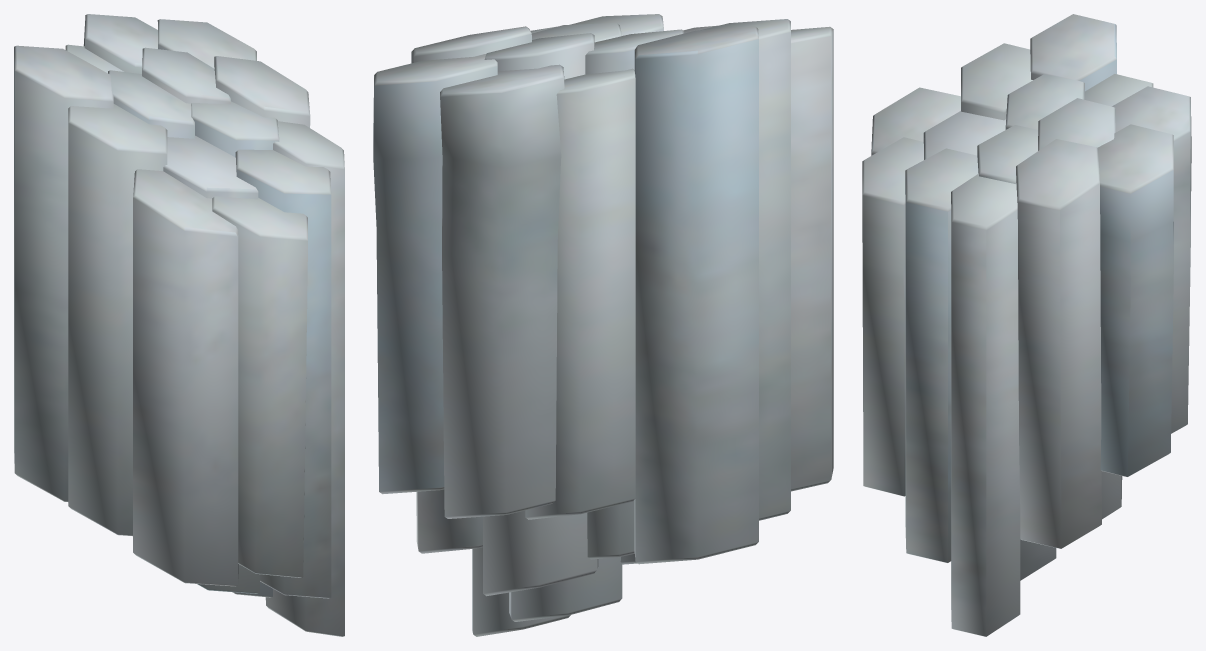
The model's file is P_RockHexic_RockSlanted10.obj.
3 views of the same model, side by side, from view 1: azimuth 30°, elevation 25°; view 2: azimuth 150°, elevation 25°; view 3: azimuth 270°, elevation 25° (orthographic). The views are drawn at different scales.
Bounding box in the file's own units: 12.03 × 23.36 × 13.77.
